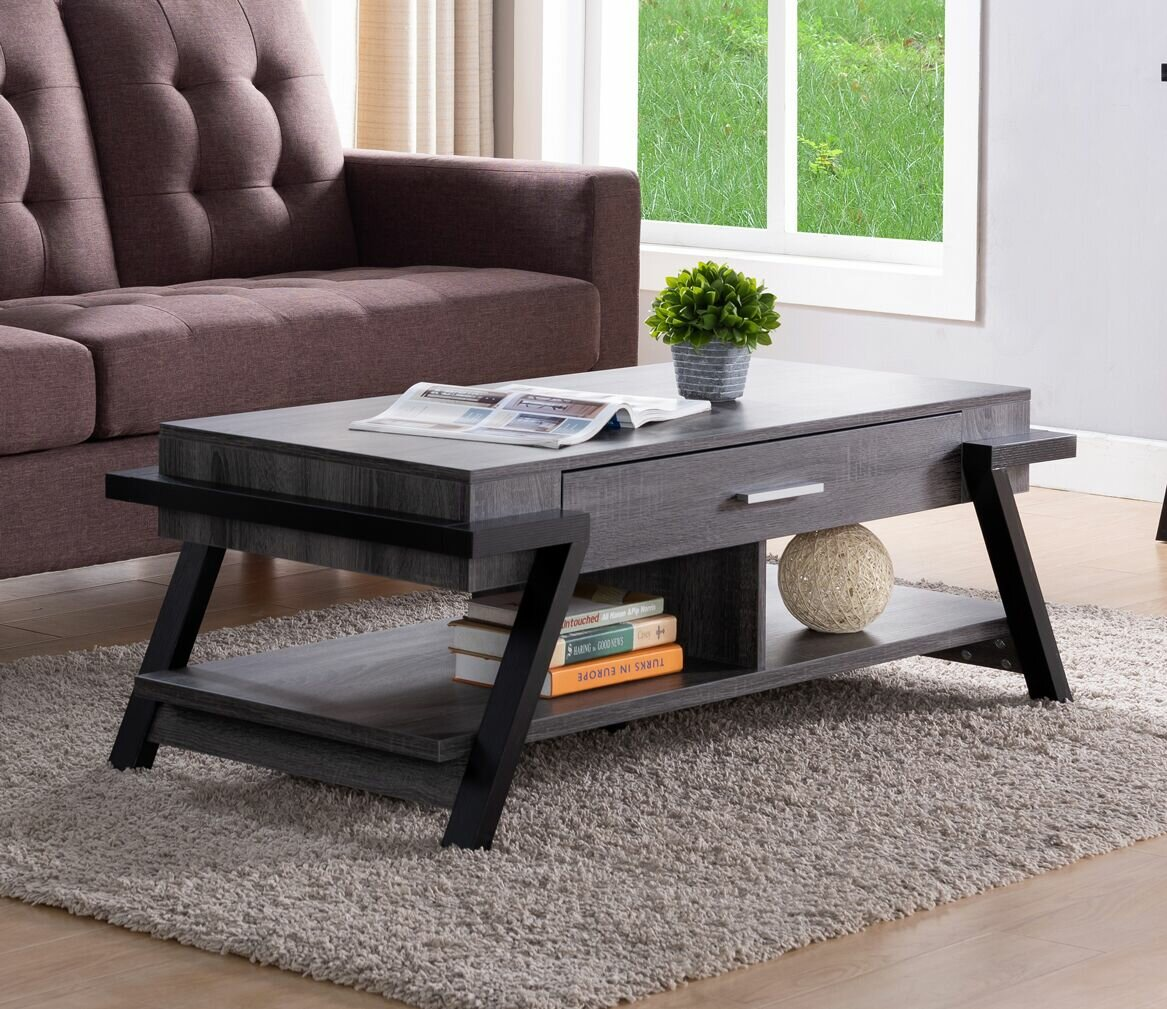sofa: (5, 1, 671, 571)
table: (72, 345, 1102, 862)
